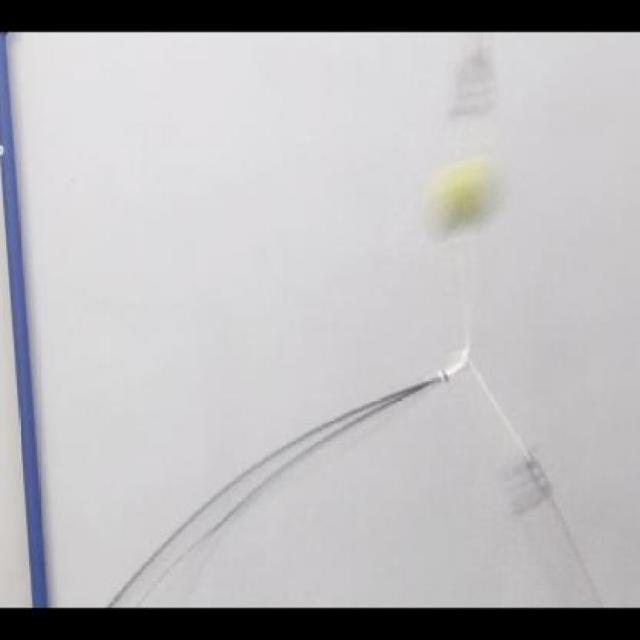baseball: (424, 152, 504, 242)
